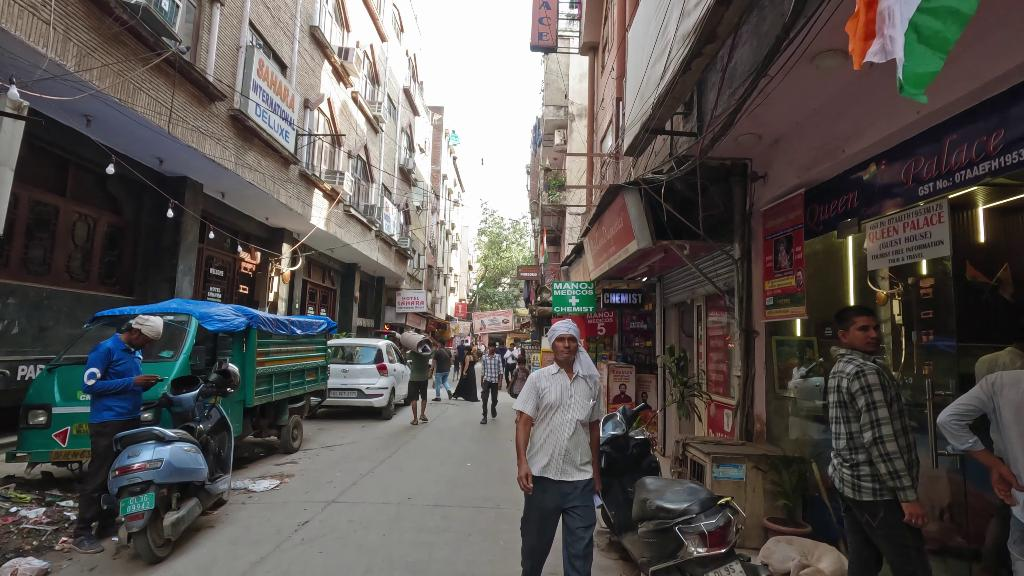garbage: (0, 555, 49, 576), (229, 472, 283, 491), (11, 505, 49, 520)
